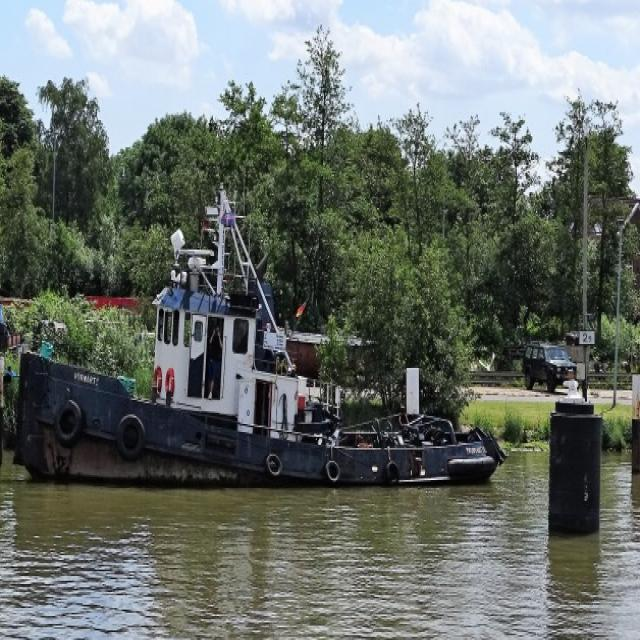tugboat: (12, 180, 509, 497)
